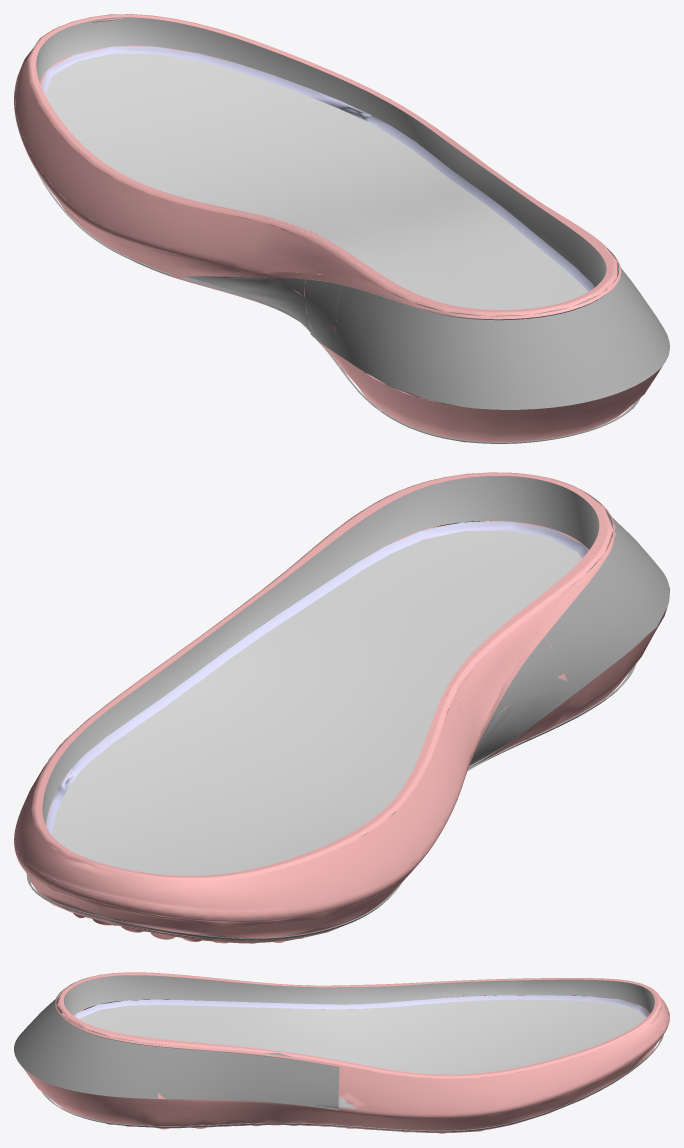
The model's file is EVOLUTION.glb.
3 views of the same model, one above another, from view 1: azimuth 30°, elevation 25°; view 2: azimuth 150°, elevation 25°; view 3: azimuth 270°, elevation 25° (orthographic). The views are drawn at different scales.
Visible parts, largest first — view 1: EVOLUTION_Nº36___100_; view 2: EVOLUTION_Nº36___100_; view 3: EVOLUTION_Nº36___100_.
Boxes of the visible parts, x1=… form: EVOLUTION_Nº36___100_: x1=14, y1=14, x2=669, y2=443; EVOLUTION_Nº36___100_: x1=14, y1=472, x2=669, y2=943; EVOLUTION_Nº36___100_: x1=14, y1=972, x2=669, y2=1133.
Size of the model in its own units: 114 by 44.31 by 283.
